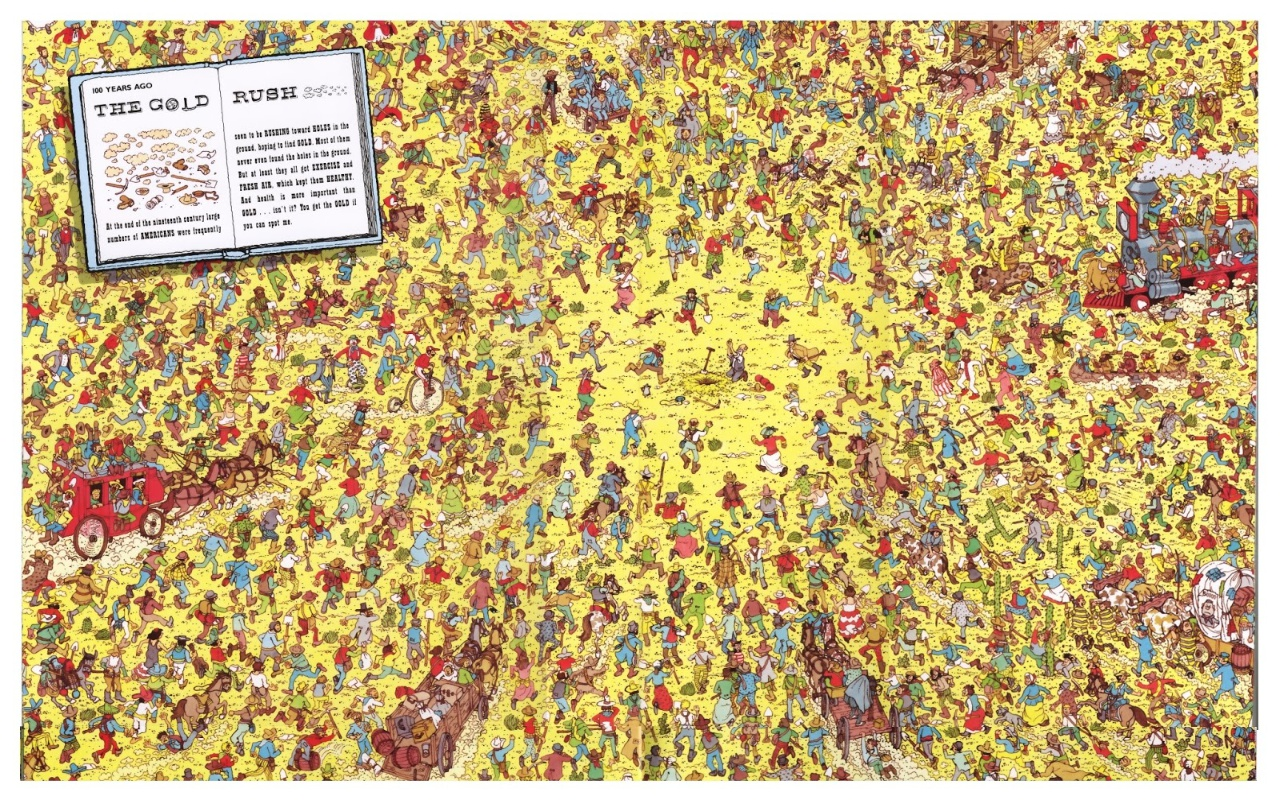waldo: (729, 640, 745, 665)
